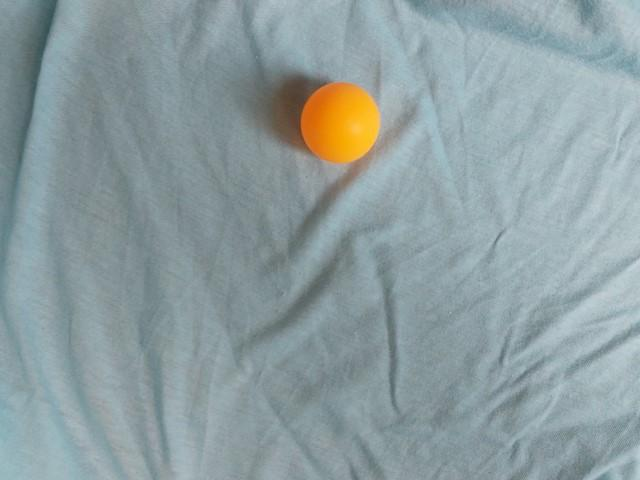oball: (252, 312, 344, 403)
